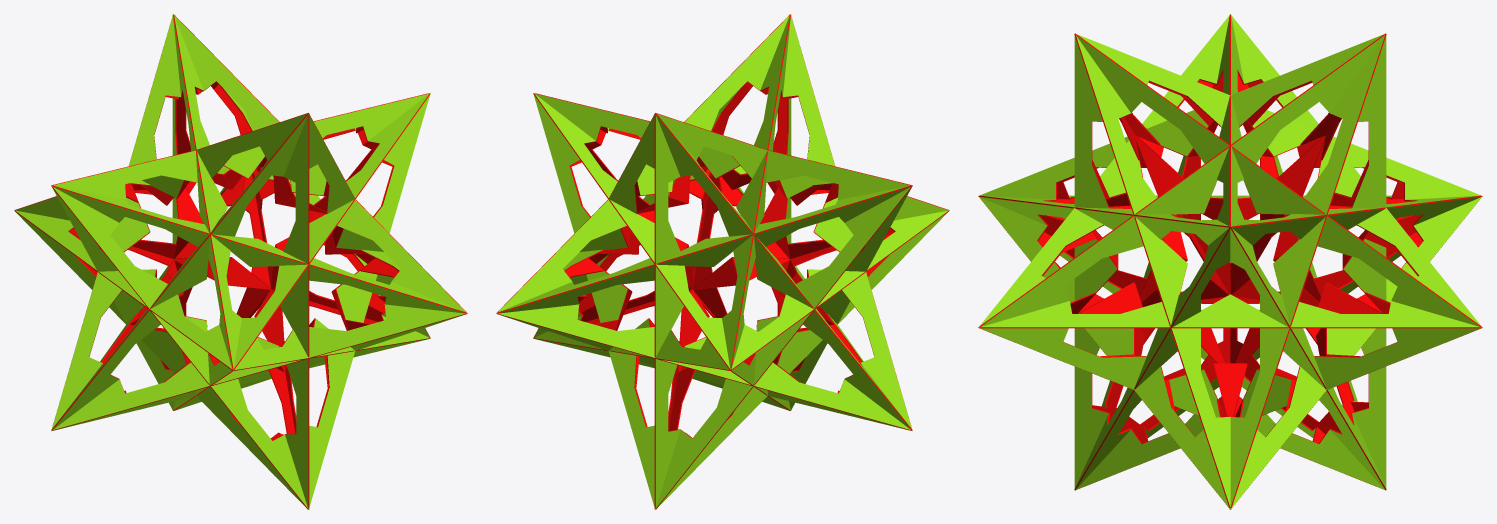
The model's file is GreatIcosahedronS2.glb.
The picture shows the model from 3 angles, left to right: view 1: azimuth 30°, elevation 25°; view 2: azimuth 150°, elevation 25°; view 3: azimuth 270°, elevation 25°; orthographic projection. The views are drawn at different scales.
Parts seen in each view (by area): view 1: Mesh_0001_1, Mesh_0001; view 2: Mesh_0001_1, Mesh_0001; view 3: Mesh_0001_1, Mesh_0001.
Part boxes in pixels (<box>): Mesh_0001_1: <box>14,14,466,509</box>; Mesh_0001: <box>14,14,467,509</box>; Mesh_0001_1: <box>497,14,949,509</box>; Mesh_0001: <box>496,14,949,509</box>; Mesh_0001_1: <box>978,14,1482,509</box>; Mesh_0001: <box>978,14,1482,509</box>.
Size of the model in its own units: 7.5 by 7.5 by 7.5.
